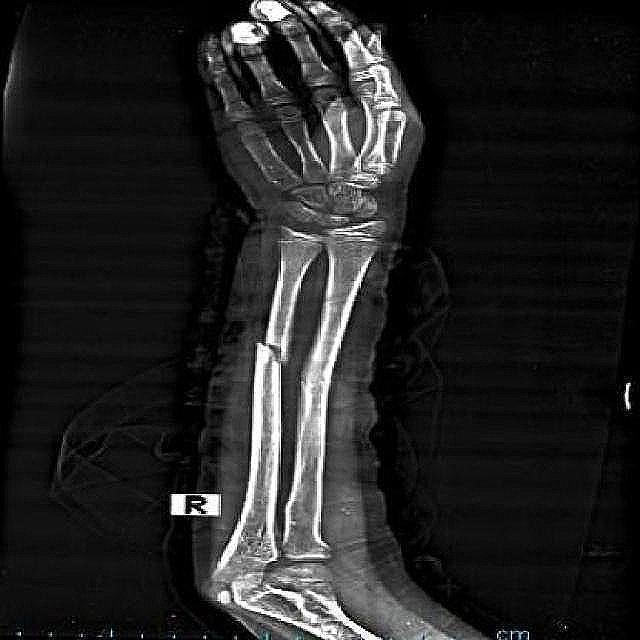bone: (250, 335, 288, 368)
